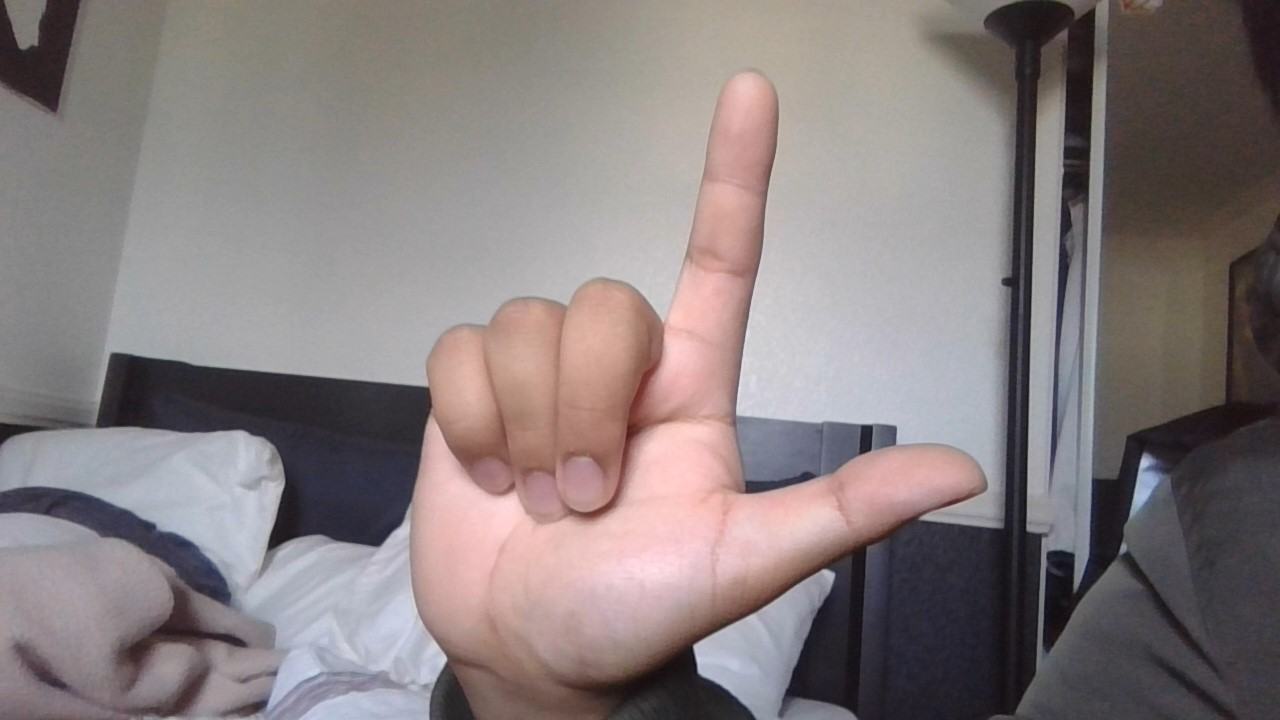l: (389, 59, 1001, 692)
